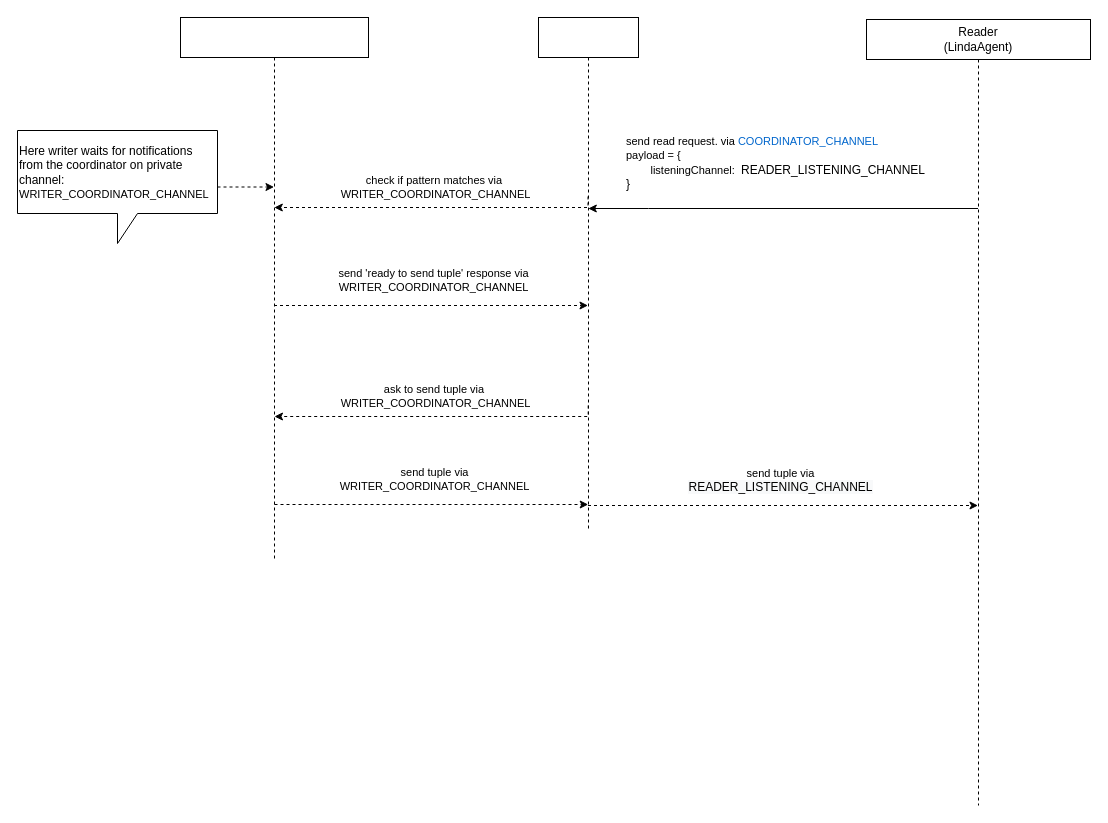
Image size: 1108x823. Some labels were removed from this diagram. Each missing label, with the box of its shape:
Coordinator (LindaCoordinator): (538, 16, 638, 530)
Writer (LindaAgent): (180, 16, 368, 558)
